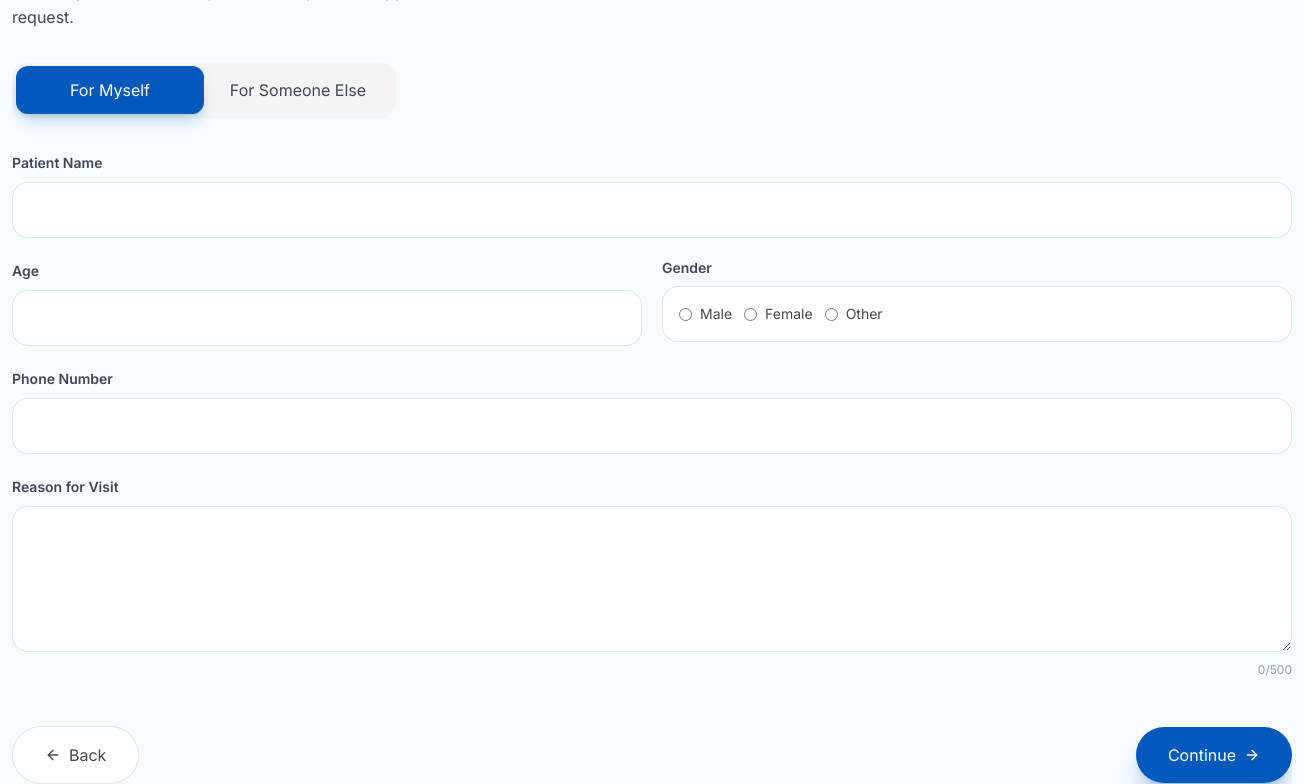
Test: Step2PatientForm › shows validation errors when required fields are missing
The image size is (1304, 784).
(page scrolled)
Click the button "Continue".
click(1214, 755)  # box [1136,727,1292,783]
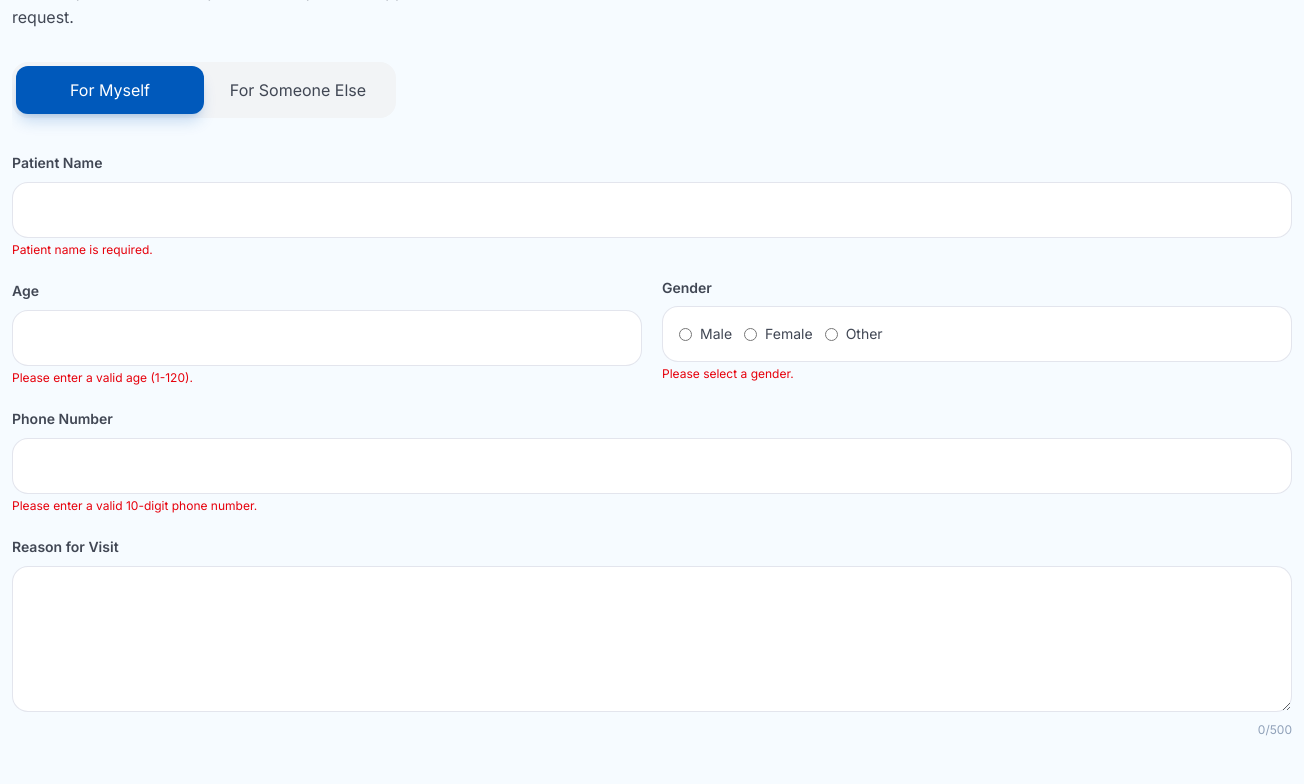
Result: the text "Patient name is required." is shown at [12,242,153,257]
Result: the text "Please enter a valid age (1-120)." is shown at [12,370,193,385]
Result: the text "Please select a gender." is shown at [662,366,794,381]
